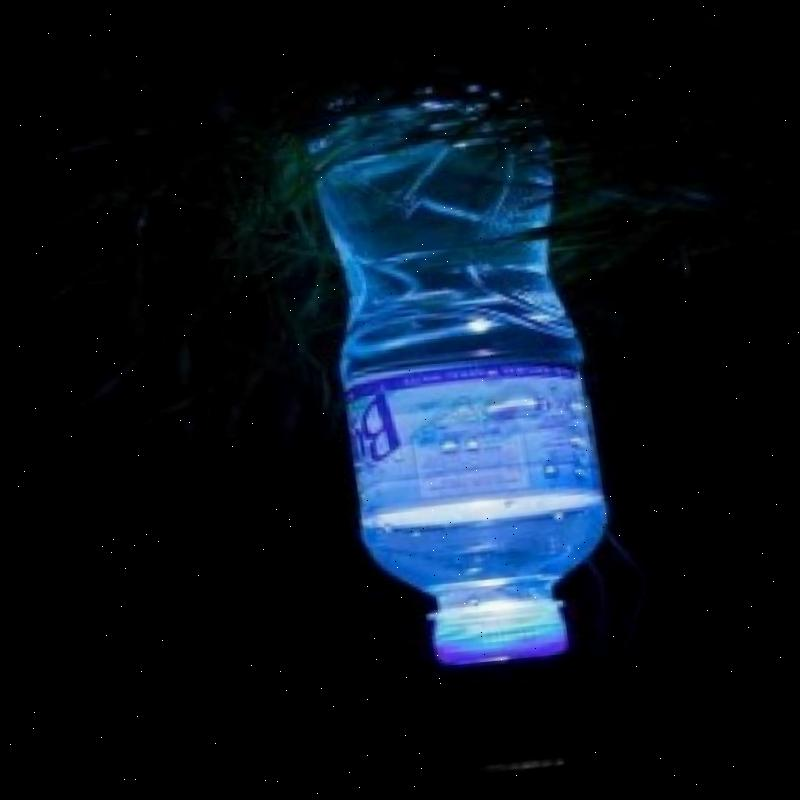botella: (293, 79, 620, 677)
